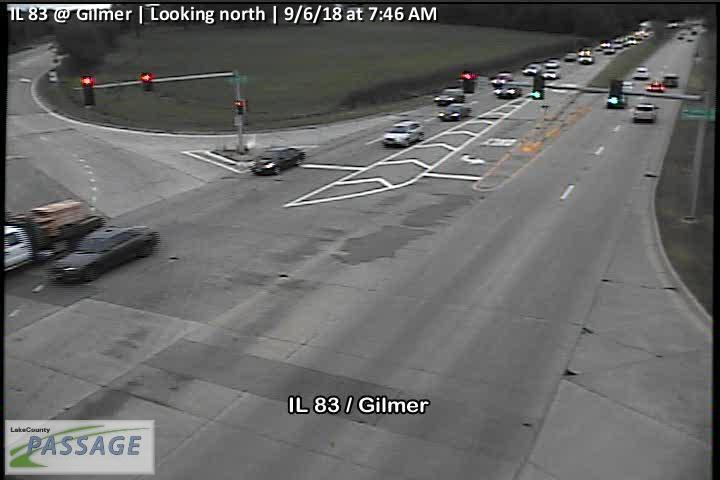SUV: (382, 120, 423, 148), (434, 89, 465, 106), (634, 104, 658, 123)
Sedan: (45, 226, 162, 284), (250, 146, 308, 175), (438, 104, 471, 122)
Truck: (1, 197, 104, 273)
